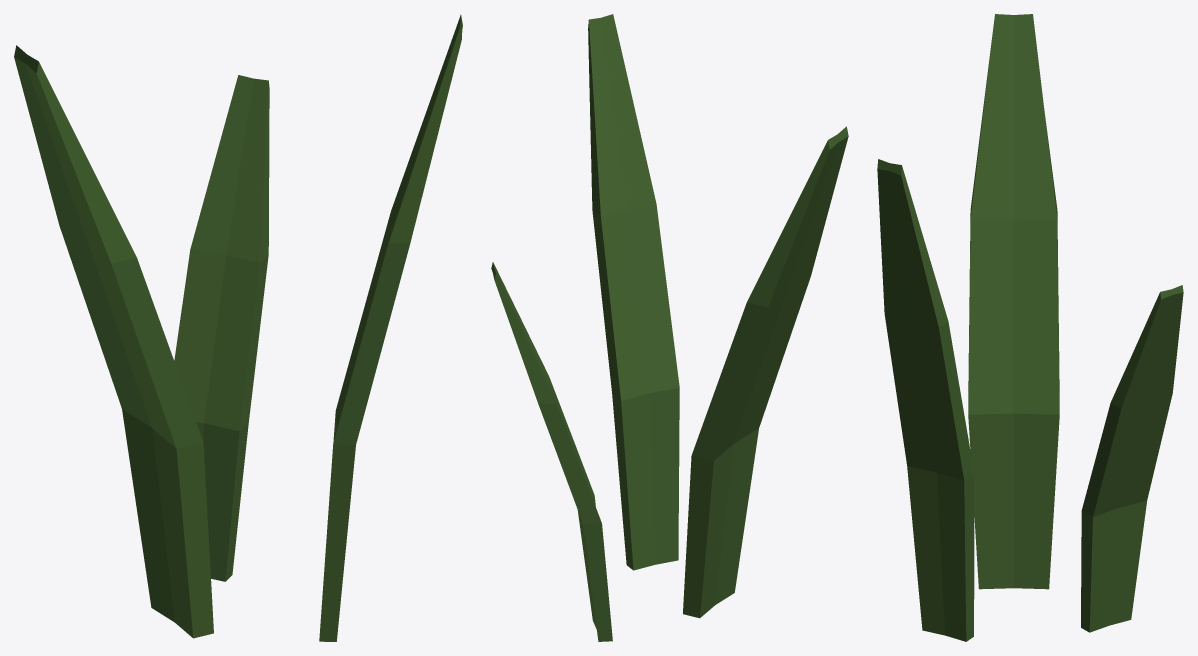
File: Grass.fbx
3 views of the same model, side by side, from view 1: azimuth 30°, elevation 25°; view 2: azimuth 150°, elevation 25°; view 3: azimuth 270°, elevation 25° (orthographic). The views are drawn at different scales.
Visible parts, largest first — view 1: Cube.001; view 2: Cube.001; view 3: Cube.001.
Part boxes in pixels (box(x1,y1,x2,y2)): Cube.001: box(14, 14, 462, 641); Cube.001: box(491, 14, 848, 641); Cube.001: box(877, 14, 1183, 641).
Bounding box in the file's own units: 96.96 × 154 × 82.81.
